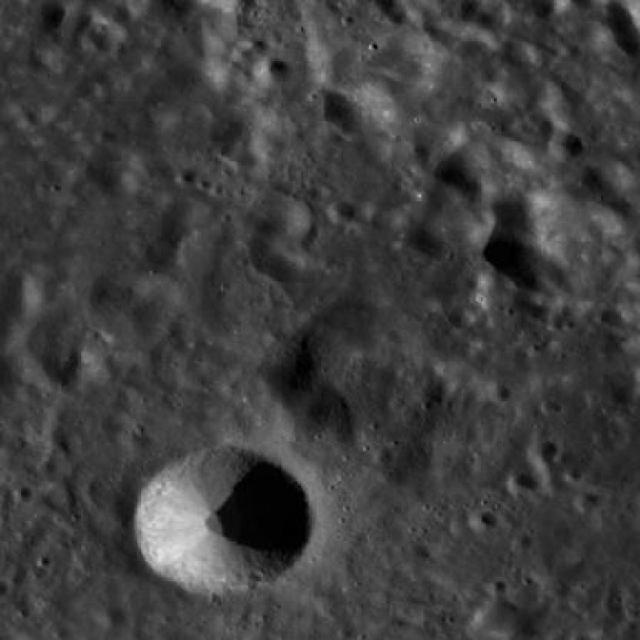crater: (134, 448, 310, 596), (499, 120, 558, 169), (474, 598, 522, 638), (254, 56, 294, 90), (548, 130, 586, 162), (468, 508, 498, 534), (508, 470, 537, 495), (528, 438, 558, 462), (97, 604, 126, 628), (328, 200, 354, 223), (240, 37, 266, 57), (576, 491, 598, 511), (488, 382, 510, 402), (232, 46, 254, 65), (510, 534, 530, 552), (176, 168, 196, 186), (374, 447, 394, 464), (13, 486, 32, 502)
